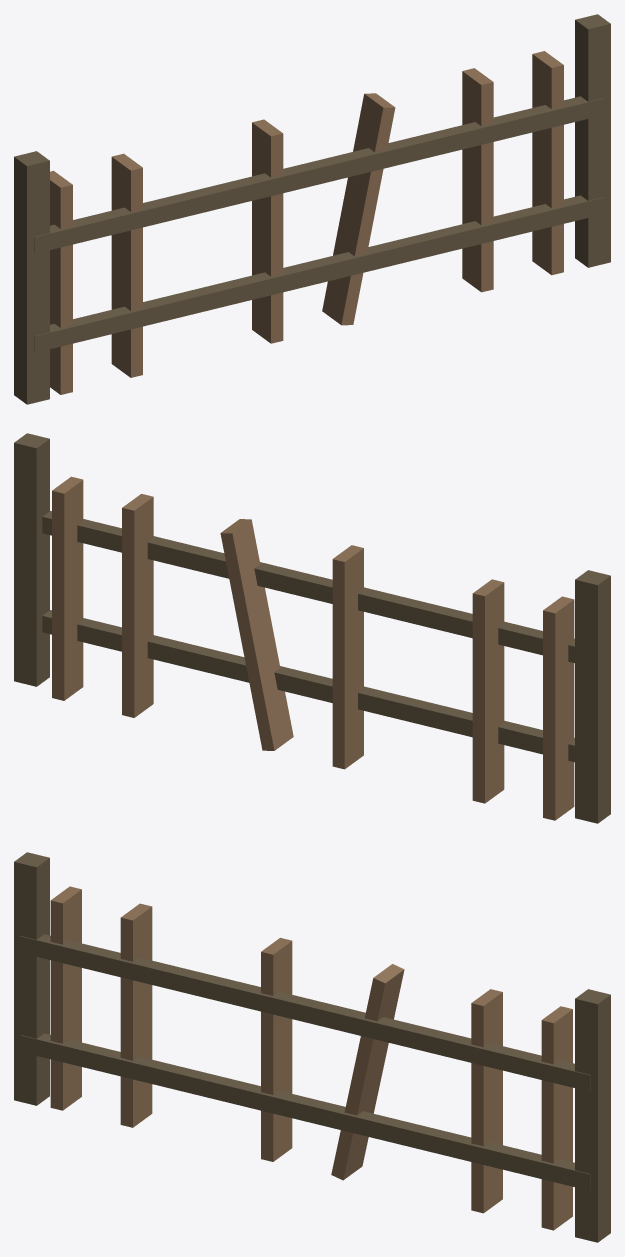
The model's file is ua_picket_fence_damaged.obj.
3 renders of one model, top to bottom at view 1: azimuth 30°, elevation 25°; view 2: azimuth 150°, elevation 25°; view 3: azimuth 330°, elevation 25°, orthographic.
Parts seen in each view (by area): view 1: ua_picket_fence_damaged; view 2: ua_picket_fence_damaged; view 3: ua_picket_fence_damaged.
Boxes of the visible parts, x1,y1,x2,y2 form: ua_picket_fence_damaged: (14, 14, 610, 404); ua_picket_fence_damaged: (14, 433, 610, 823); ua_picket_fence_damaged: (14, 852, 610, 1242).
Bounding box in the file's own units: 3.33 × 1.31 × 0.21.
